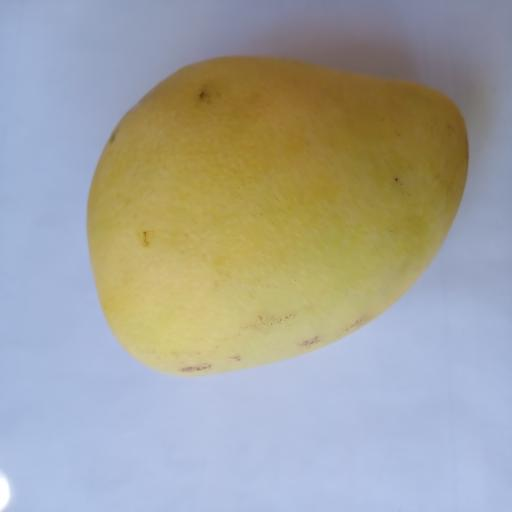mango-ripe: (71, 34, 486, 396)
